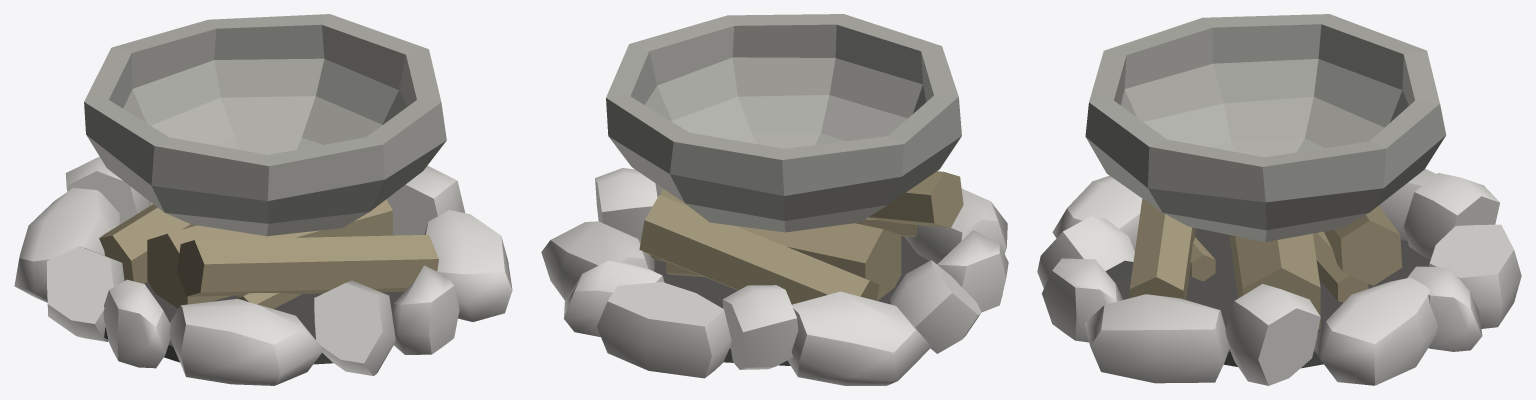
Rendered from Campfire.fbx.
3 views of the same model, side by side, from view 1: azimuth 30°, elevation 25°; view 2: azimuth 150°, elevation 25°; view 3: azimuth 270°, elevation 25° (orthographic). The views are drawn at different scales.
Visible parts, largest first — view 1: Pot, CampfireWood5, CampfireRock2, CampfireRock4, CampfireRock1, CampfireRock10, CampfireRock11, CampfireWood3, CampfireRock12, CampfireRock3, CampfireRock5, CampfireWood2 (+3 smaller); view 2: Pot, CampfireWood2, CampfireRock10, CampfireRock8, CampfireWood3, CampfireRock9, CampfireRock11, CampfireRock6, CampfireRock12, CampfireRock7, CampfireWood5, CampfireRock2 (+3 smaller); view 3: Pot, CampfireRock4, CampfireRock6, CampfireRock5, CampfireRock8, CampfireRock9, CampfireWood5, CampfireWood3, CampfireMud, CampfireRock3, CampfireWood2, CampfireRock1 (+5 smaller).
Part boxes in pixels (bbox=[...]): Pot: bbox=[84, 14, 446, 236]; CampfireWood5: bbox=[177, 234, 438, 296]; CampfireRock2: bbox=[169, 299, 323, 385]; CampfireRock4: bbox=[424, 210, 512, 321]; CampfireRock1: bbox=[314, 280, 395, 375]; CampfireRock10: bbox=[14, 188, 119, 302]; CampfireRock11: bbox=[47, 246, 124, 341]; CampfireWood3: bbox=[147, 199, 392, 308]; CampfireRock12: bbox=[103, 279, 170, 368]; CampfireRock3: bbox=[391, 265, 459, 354]; CampfireRock5: bbox=[386, 165, 464, 235]; CampfireWood2: bbox=[99, 204, 196, 283]; Pot: bbox=[606, 14, 961, 232]; CampfireWood2: bbox=[639, 195, 879, 304]; CampfireRock10: bbox=[787, 291, 931, 385]; CampfireRock8: bbox=[596, 282, 731, 378]; CampfireWood3: bbox=[650, 189, 901, 300]; CampfireRock9: bbox=[722, 285, 798, 369]; CampfireRock11: bbox=[890, 260, 981, 353]; CampfireRock6: bbox=[541, 221, 654, 300]; CampfireRock12: bbox=[937, 230, 1008, 312]; CampfireRock7: bbox=[564, 260, 664, 336]; CampfireWood5: bbox=[867, 171, 963, 228]; CampfireRock2: bbox=[904, 188, 1007, 263]; Pot: bbox=[1085, 14, 1446, 242]; CampfireRock4: bbox=[1084, 294, 1229, 383]; CampfireRock6: bbox=[1314, 277, 1437, 385]; CampfireRock5: bbox=[1225, 284, 1320, 385]; CampfireRock8: bbox=[1428, 224, 1521, 328]; CampfireRock9: bbox=[1404, 173, 1499, 258]; CampfireWood5: bbox=[1129, 199, 1195, 299]; CampfireWood3: bbox=[1229, 233, 1320, 329]; CampfireMud: bbox=[1115, 228, 1430, 368]; CampfireRock3: bbox=[1042, 258, 1122, 342]; CampfireWood2: bbox=[1324, 205, 1402, 285]; CampfireRock1: bbox=[1037, 216, 1134, 288].
Size of the model in its own units: 1.9 by 0.9918 by 1.95.
